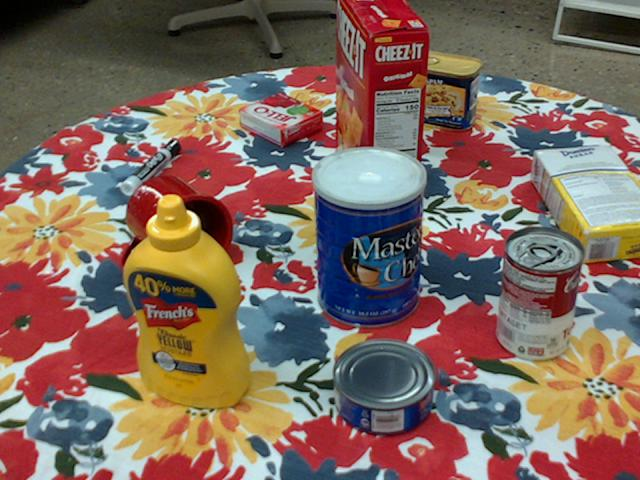cracker_box: (337, 0, 429, 216)
gelatin_box: (237, 92, 322, 147)
large_marker: (119, 138, 179, 195)
master_chef_can: (311, 147, 425, 330)
mug: (120, 175, 233, 281)
mustard_bottle: (122, 194, 251, 407)
potted_meat_can: (402, 49, 483, 129)
sugar_box: (531, 143, 639, 264)
tomato_soup_can: (498, 226, 583, 361)
tuna_fish_can: (329, 339, 432, 436)
